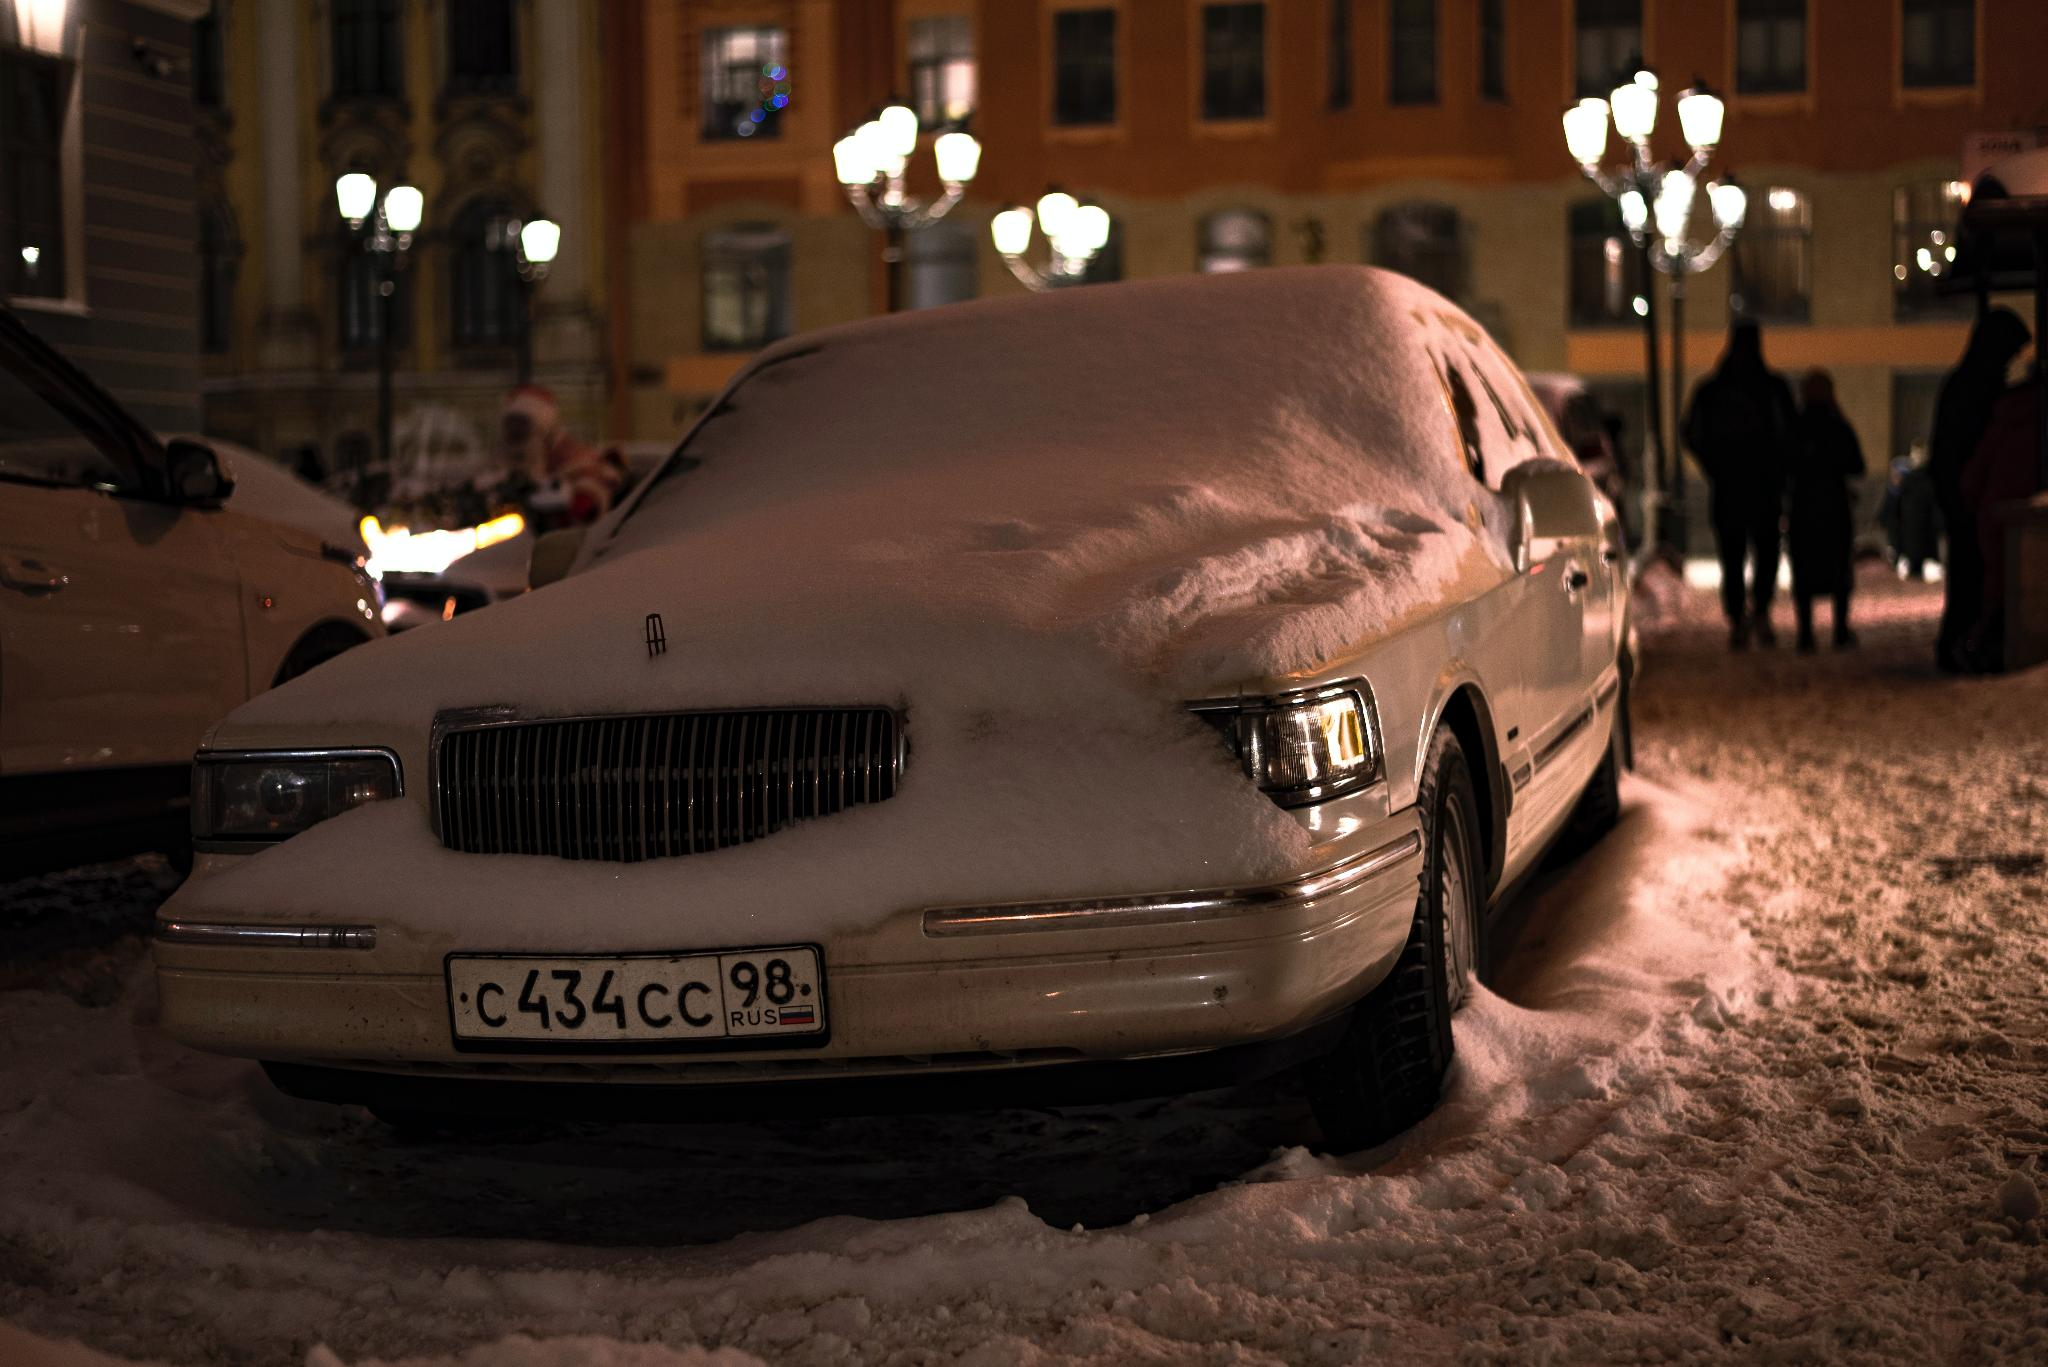lincoln: (631, 593, 683, 680)
